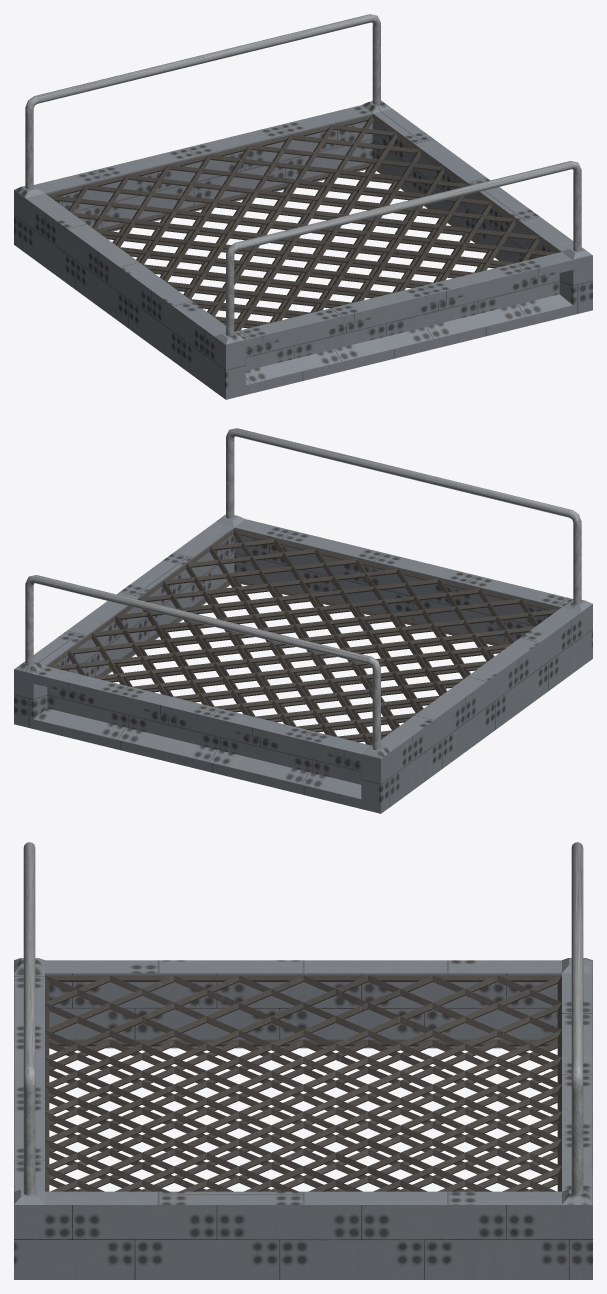
Rendered from GridPlatform.fbx.
3 views of the same model, one above another, from view 1: azimuth 30°, elevation 25°; view 2: azimuth 150°, elevation 25°; view 3: azimuth 270°, elevation 25° (orthographic). The views are drawn at different scales.
Parts seen in each view (by area): view 1: Grid_Platform; view 2: Grid_Platform; view 3: Grid_Platform.
Boxes of the visible parts, x1,y1,x2,y2 form: Grid_Platform: (14,14,592,399); Grid_Platform: (14,428,592,813); Grid_Platform: (14,842,592,1279).
Size of the model in its own units: 3.5 by 3.5 by 1.36.
